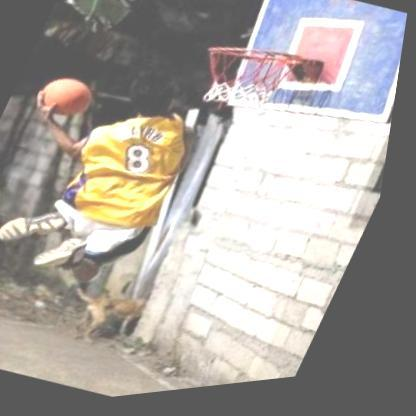basketball: (40, 72, 102, 126)
